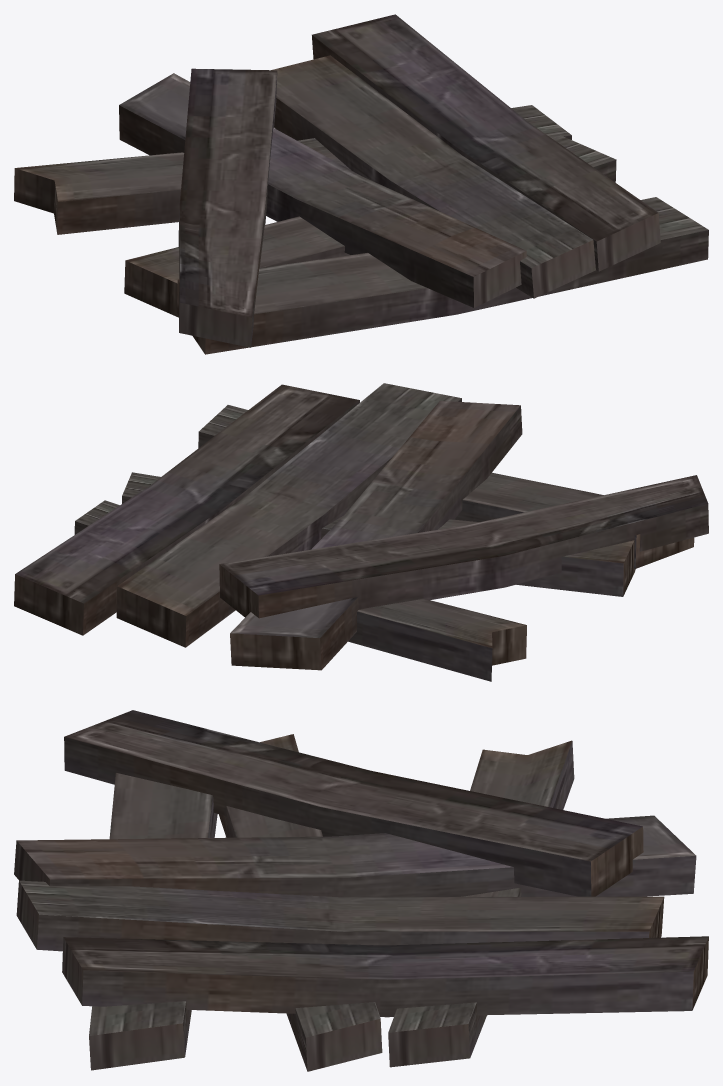
The model's file is Battle05_Other_08.FBX.
The picture shows the model from 3 angles, top to bottom: view 1: azimuth 30°, elevation 25°; view 2: azimuth 150°, elevation 25°; view 3: azimuth 270°, elevation 25°; orthographic projection. The views are drawn at different scales.
Parts seen in each view (by area): view 1: Battle05_Other_08; view 2: Battle05_Other_08; view 3: Battle05_Other_08.
Part boxes in pixels (bbox=[...]): Battle05_Other_08: bbox=[14, 14, 708, 354]; Battle05_Other_08: bbox=[14, 383, 708, 681]; Battle05_Other_08: bbox=[14, 710, 708, 1071].
Bounding box in the file's own units: 6.66 × 0.9998 × 6.85.
